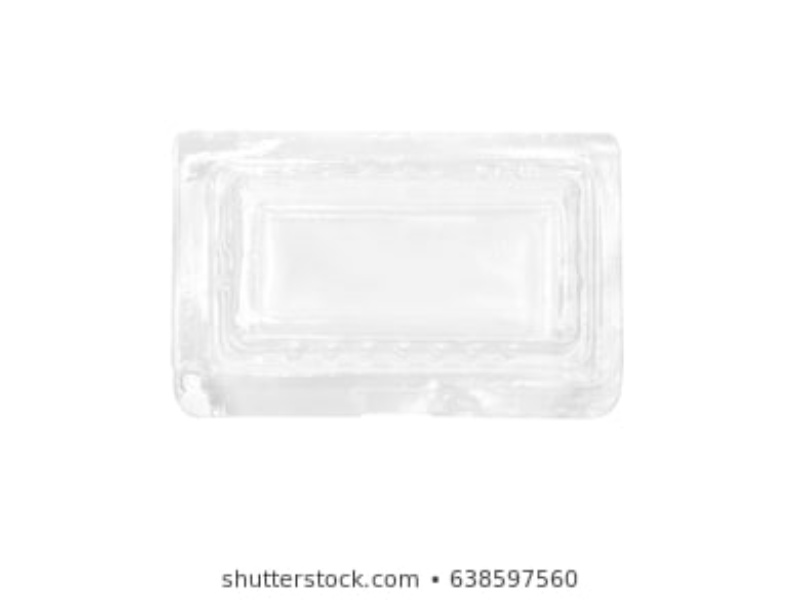plastic-tray: (168, 132, 632, 431)
